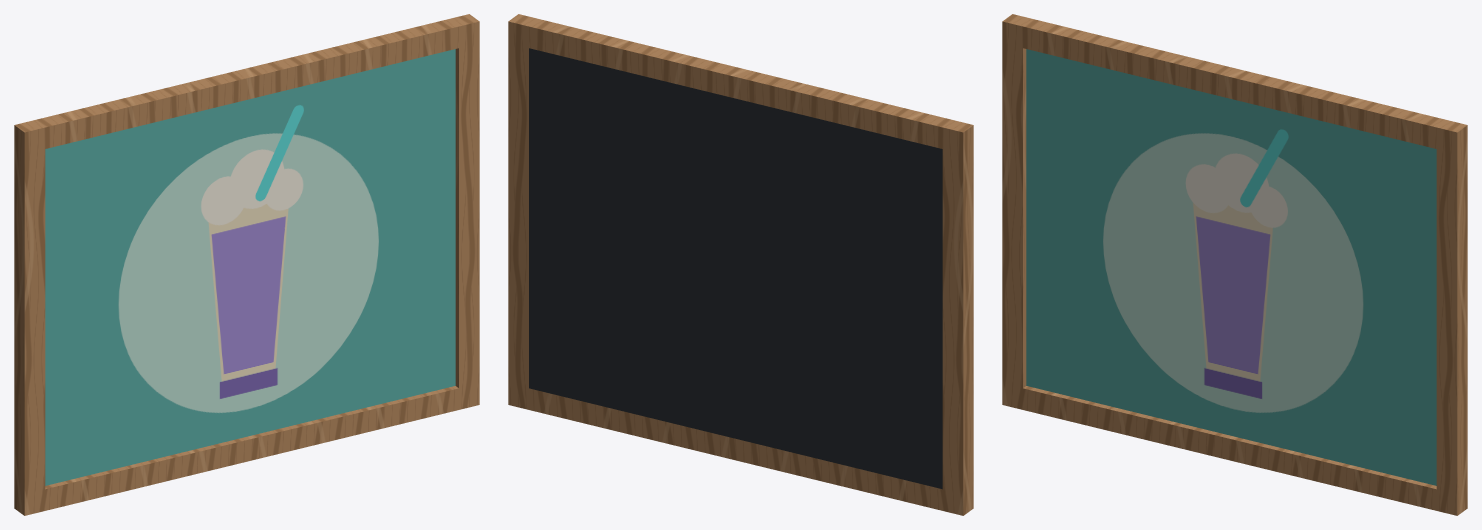
The model's file is SM_Painting_Milkshake.glb.
The picture shows the model from 3 angles, left to right: view 1: azimuth 30°, elevation 25°; view 2: azimuth 150°, elevation 25°; view 3: azimuth 330°, elevation 25°; orthographic projection.
Visible parts, largest first — view 1: SM_Painting_Milkshake; view 2: SM_Painting_Milkshake; view 3: SM_Painting_Milkshake.
Part boxes in pixels (x1,y1,x2,y2): SM_Painting_Milkshake: (14, 14, 479, 515); SM_Painting_Milkshake: (508, 14, 973, 515); SM_Painting_Milkshake: (1002, 14, 1467, 515).
Bounding box in the file's own units: 0.77 × 0.62 × 0.03.
3 materials, 3 textured.
